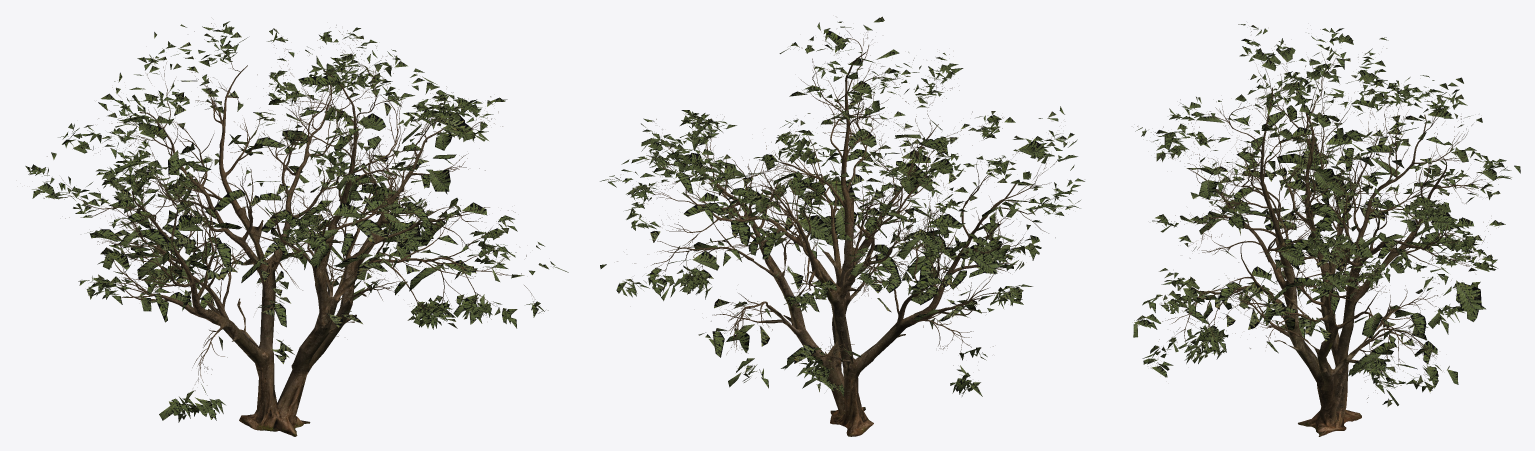
The model's file is jacaranda.glb.
3 renders of one model, left to right at view 1: azimuth 30°, elevation 25°; view 2: azimuth 150°, elevation 25°; view 3: azimuth 270°, elevation 25°, orthographic. The views are drawn at different scales.
Parts seen in each view (by area): view 1: jacaranda_tree_LOD0; view 2: jacaranda_tree_LOD0; view 3: jacaranda_tree_LOD0.
Boxes of the visible parts, x1,y1,x2,y2 form: jacaranda_tree_LOD0: [25, 21, 568, 436]; jacaranda_tree_LOD0: [600, 16, 1084, 436]; jacaranda_tree_LOD0: [1133, 24, 1520, 436].
Size of the model in its own units: 24.36 by 19.42 by 18.48.
3 materials, 3 textured.
